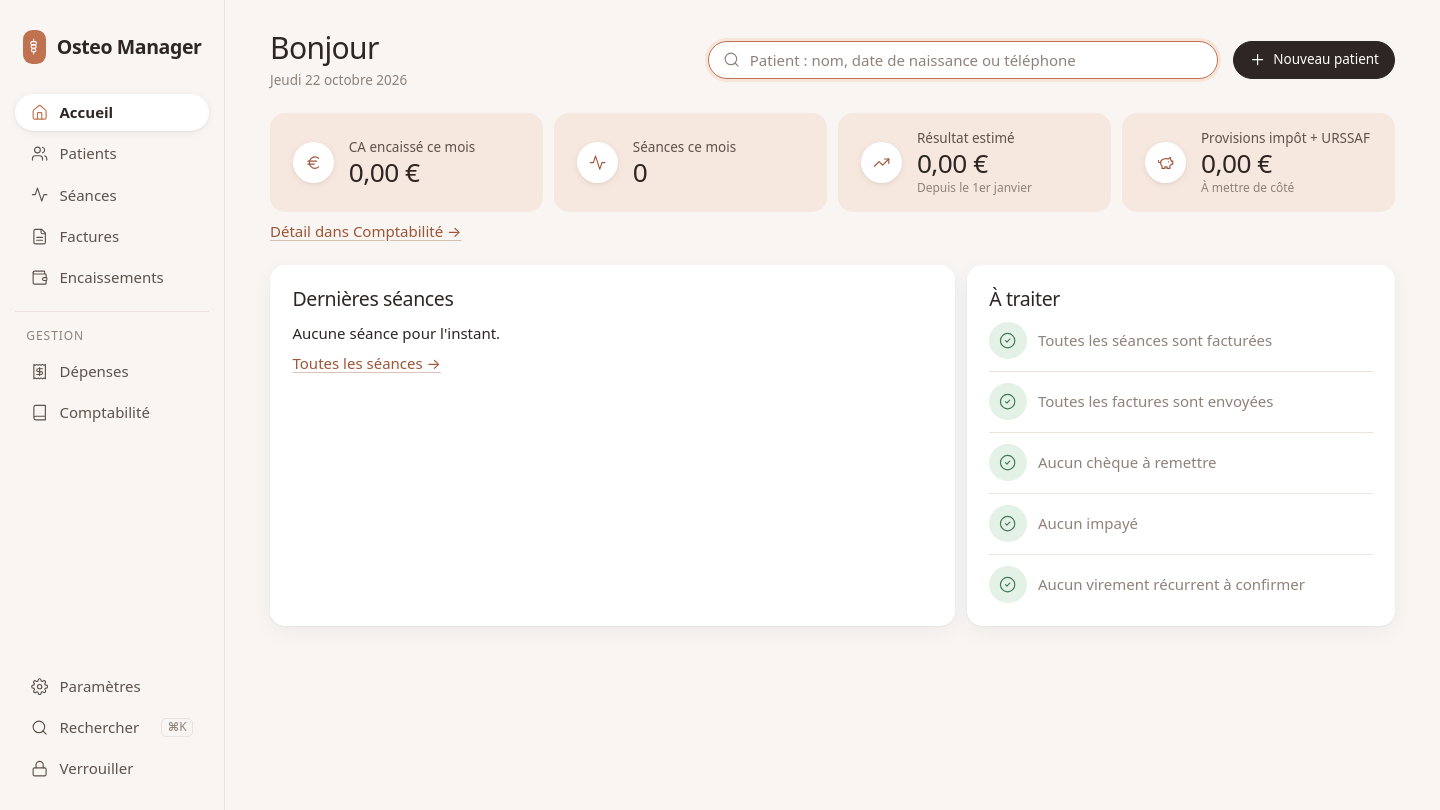
le nom est obligatoire
Click the button "Patients" at (112, 154), box [15,135,209,172]
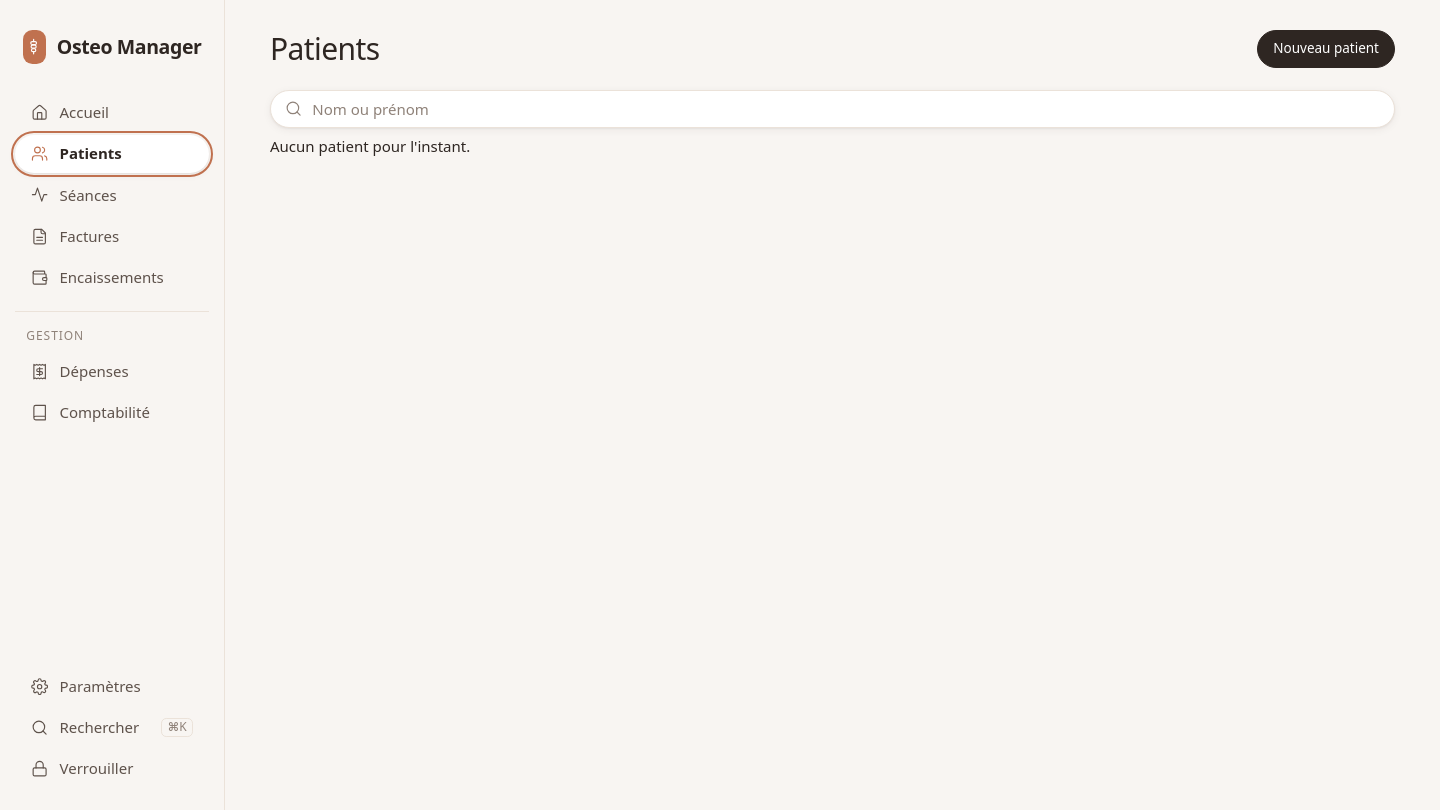
Click the button "Nouveau patient" at (1326, 49), box [1257,30,1395,68]
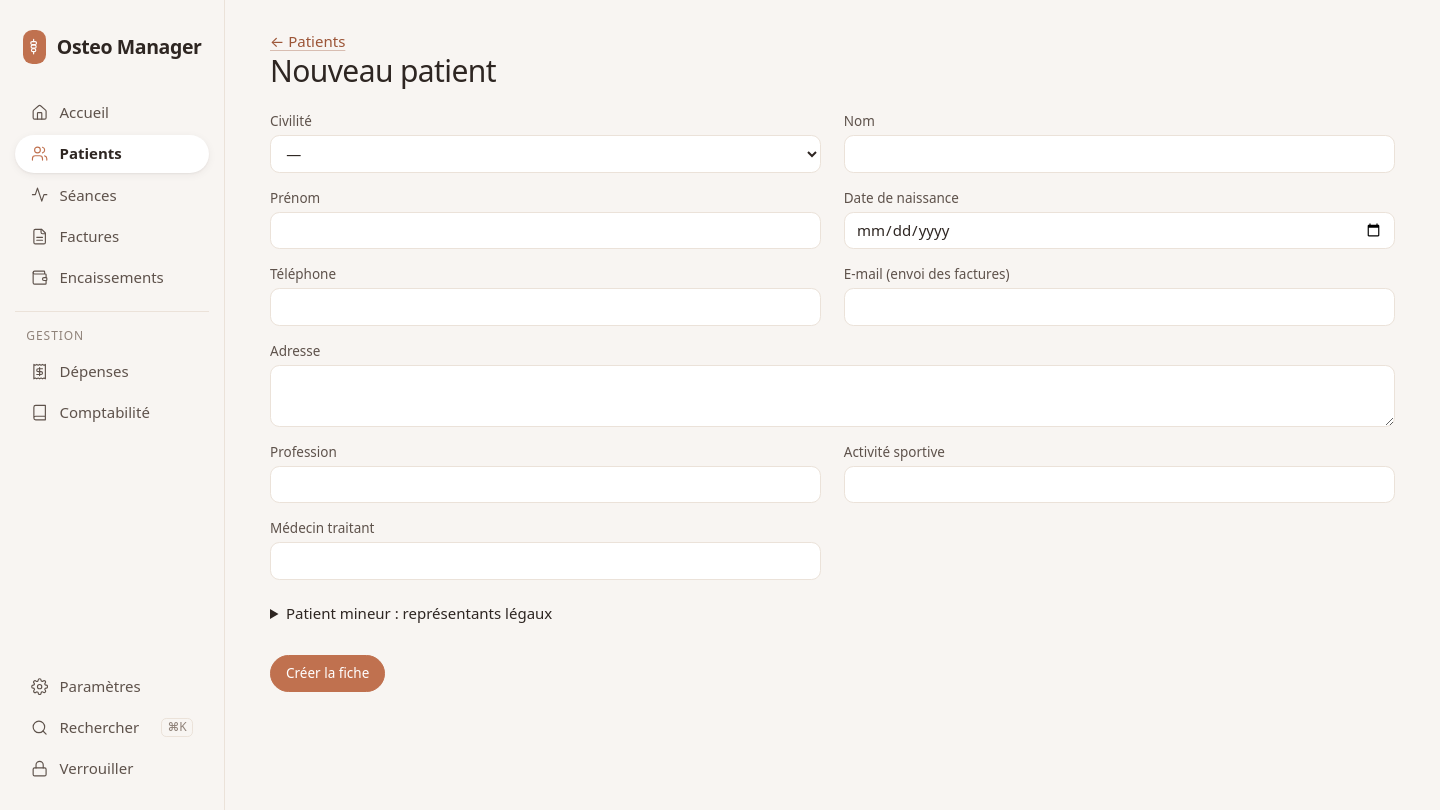
Type "Anne" into the field labelled "Prénom" at (546, 230), box [270,212,821,249]
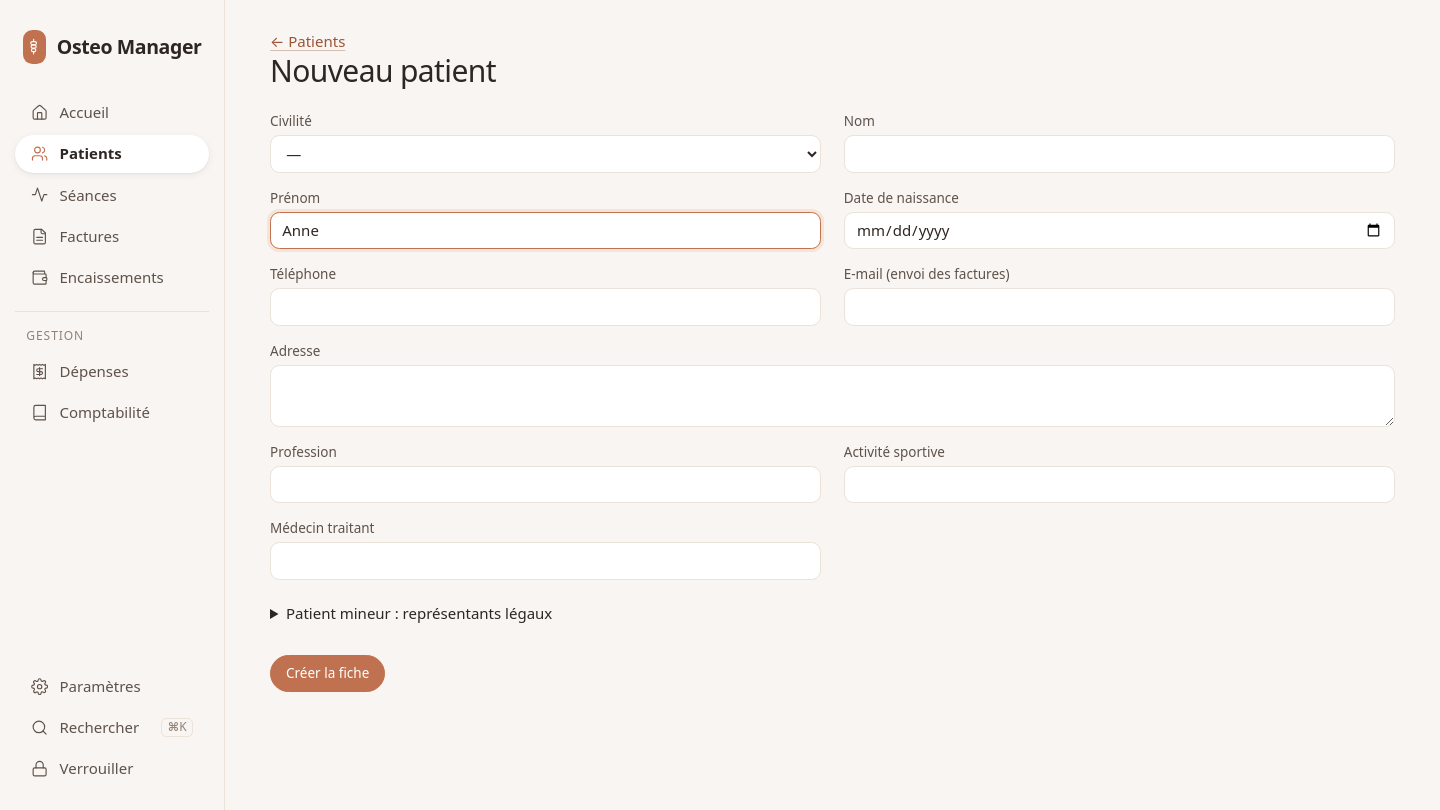
Click the button "Créer la fiche" at (328, 673), box [270,654,385,692]
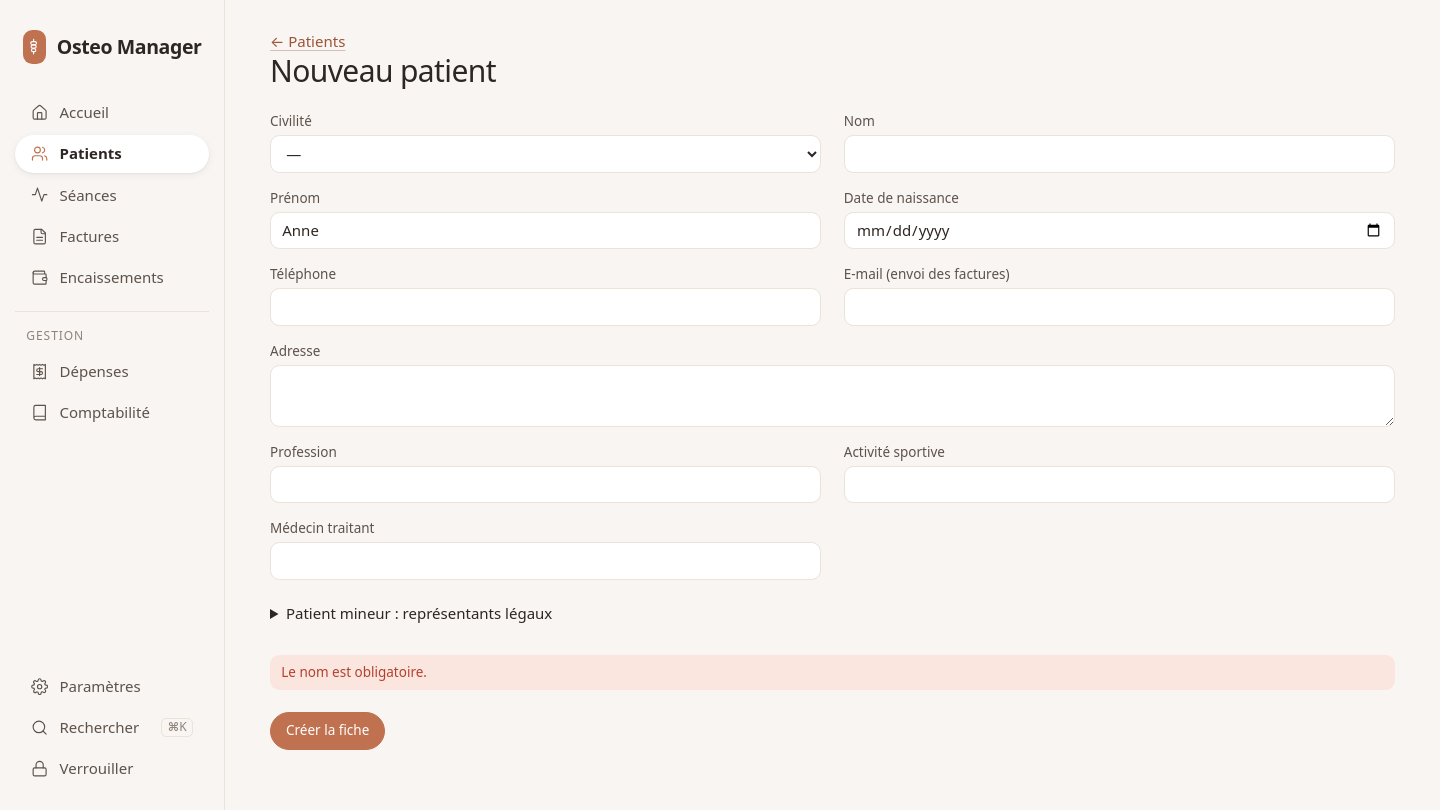
Expected: the message reads "Le nom est obligatoire.", [281,663,427,681]
